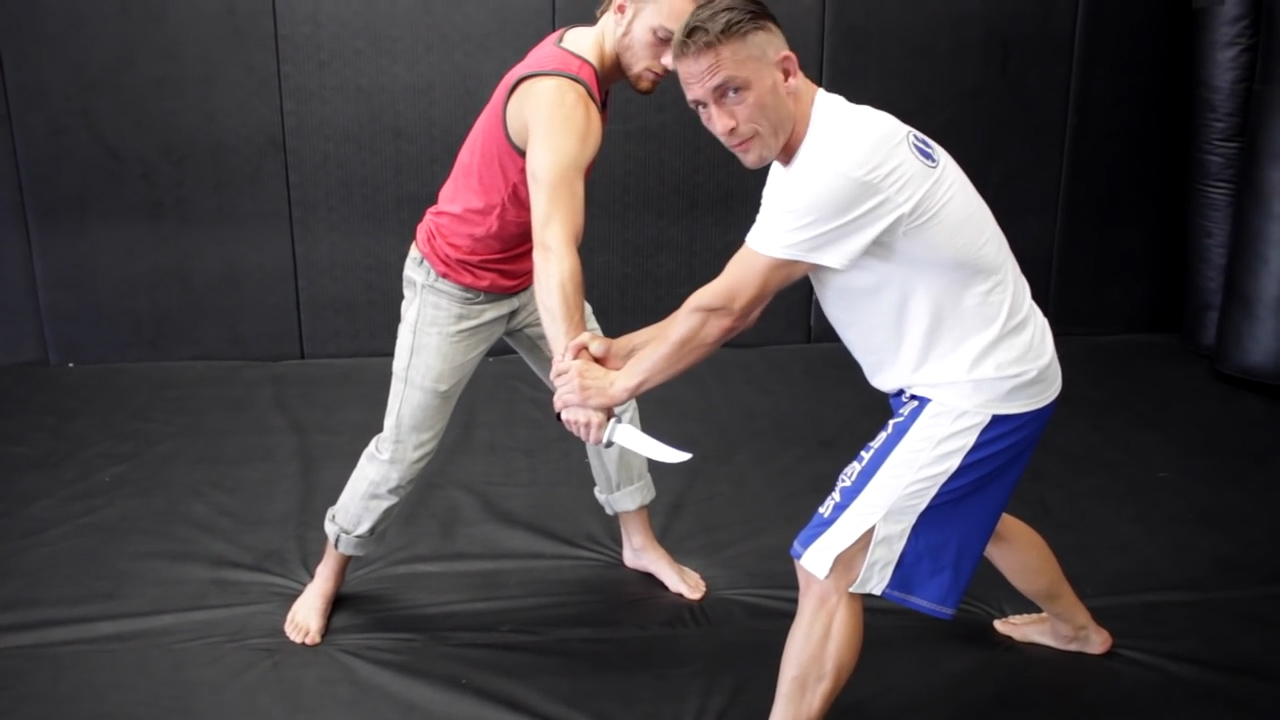knife: (551, 408, 701, 472)
